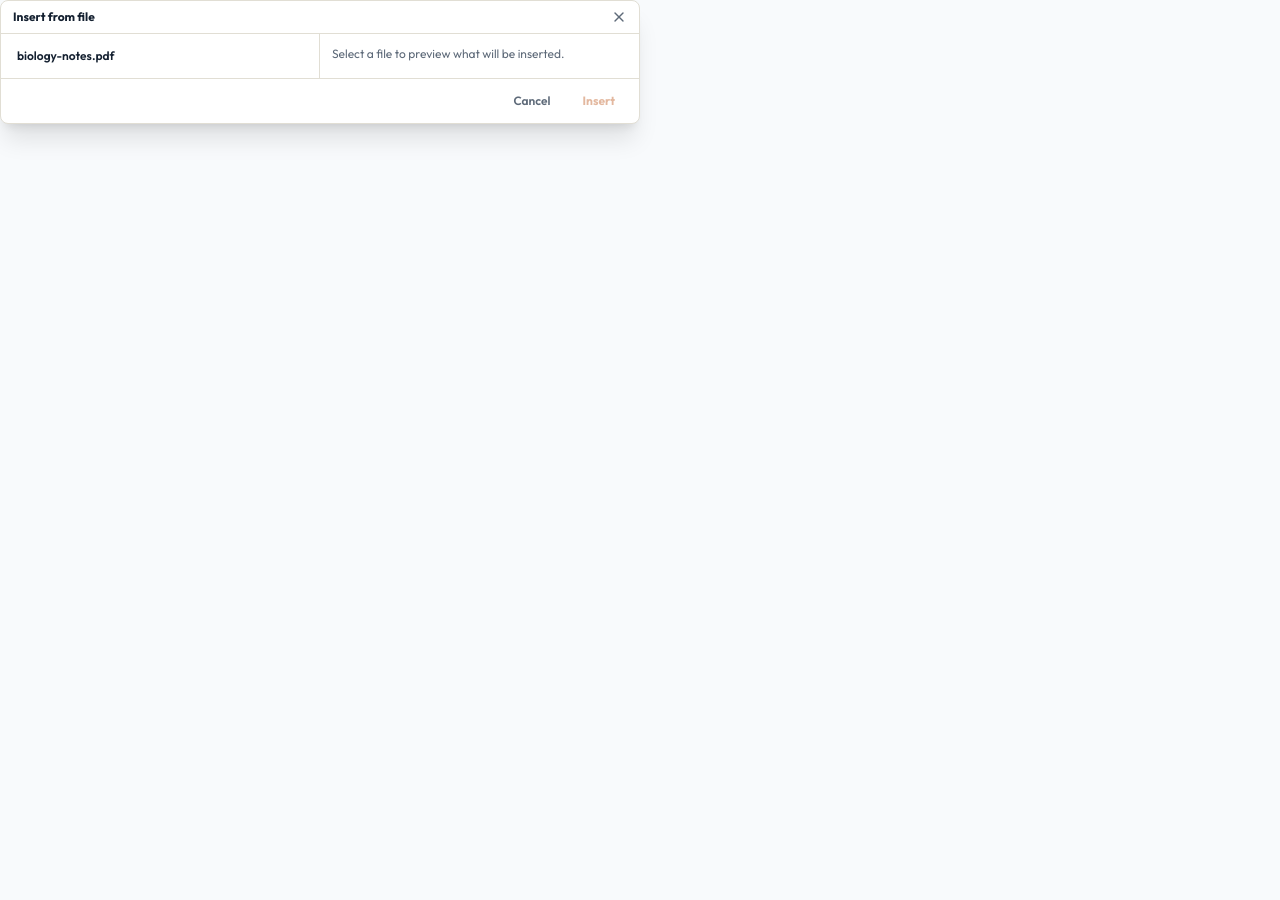
Test case: InsertFromFilePicker › selecting a section switches off "Whole file" and updates the preview to only that section
The width and height of the screenshot is (1280, 900).
Click the option "biology-notes.pdf": (66, 56) 9,42 -> 311,70
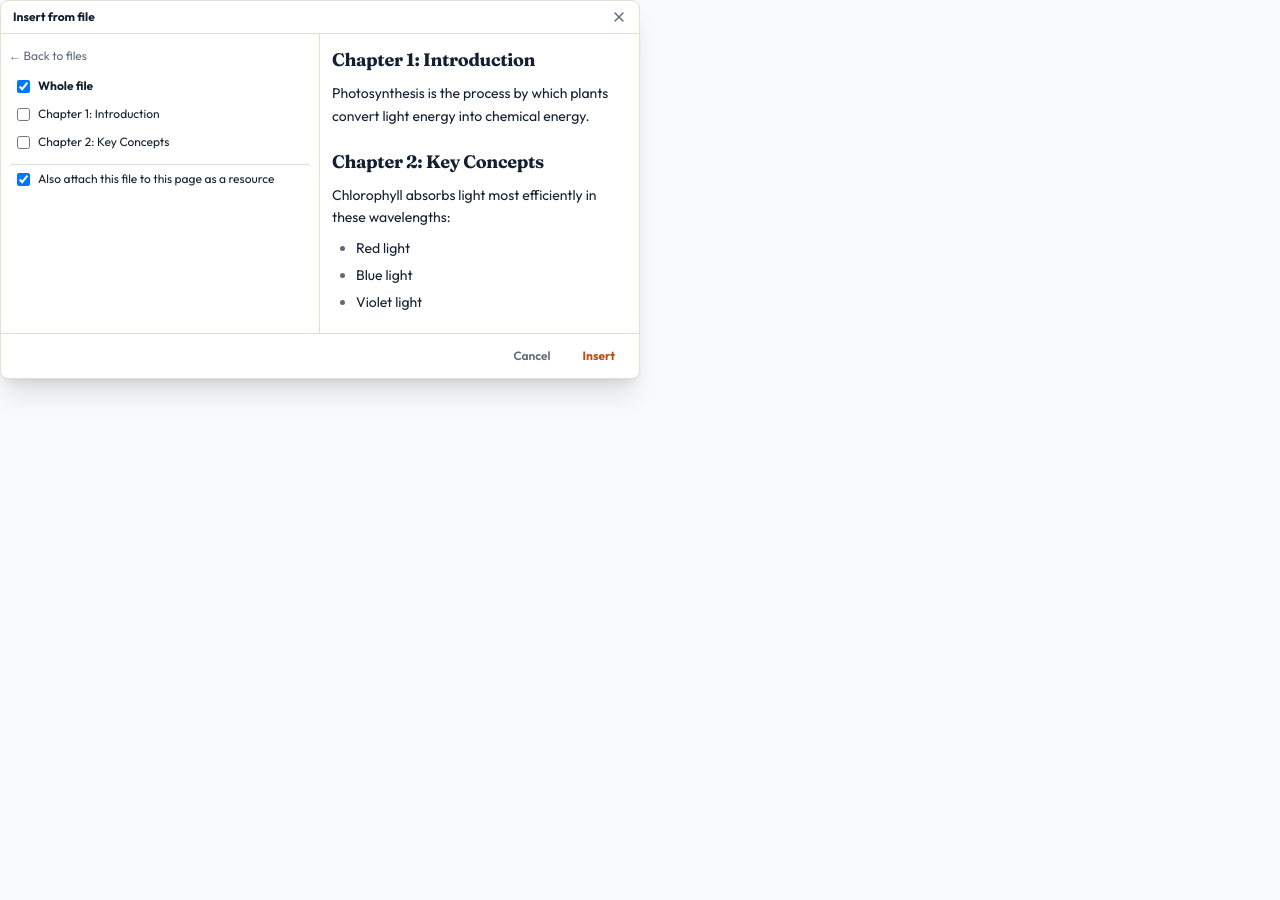
Click the checkbox labelled "Chapter 2: Key Concepts": (24, 142) 17,136 -> 30,148
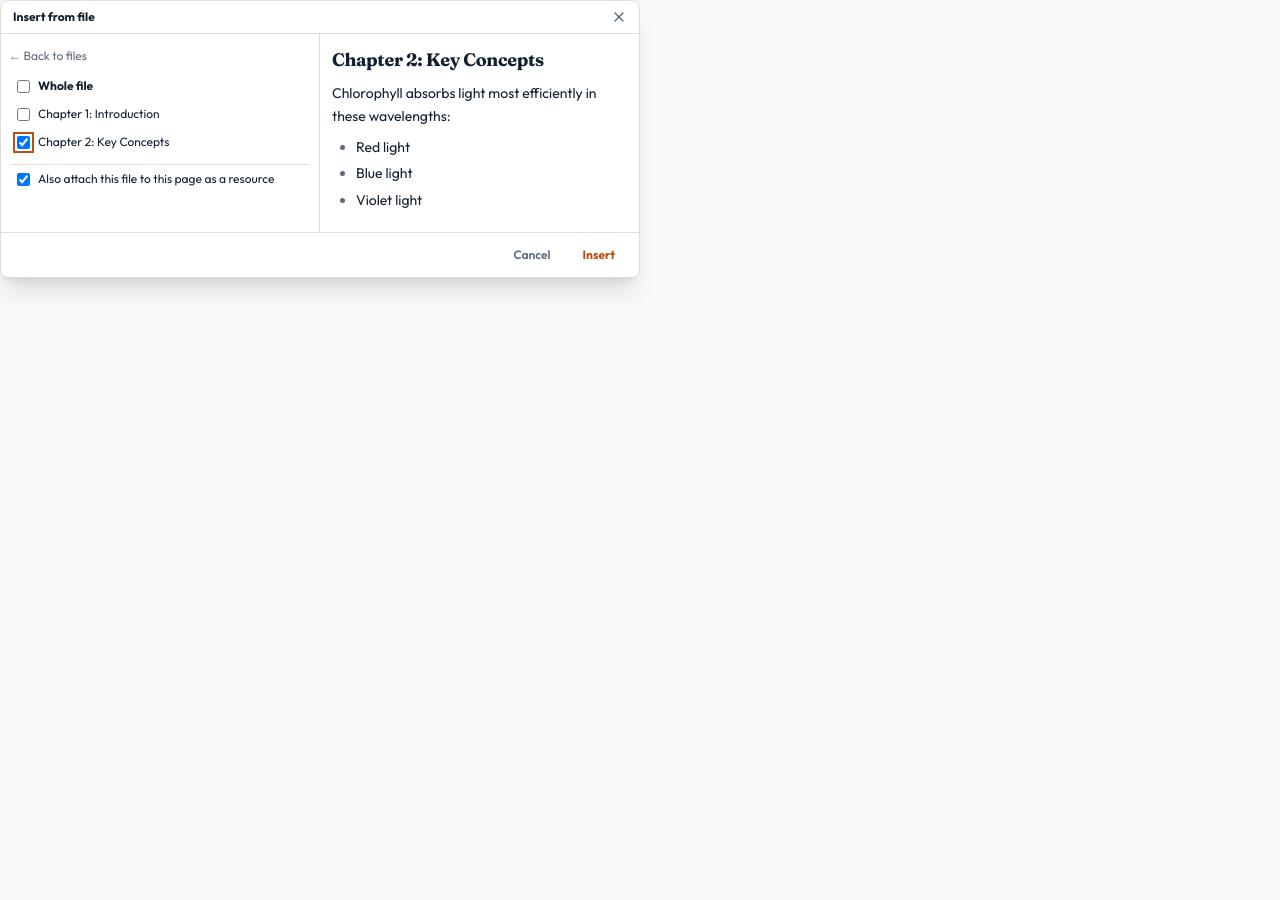
Expected: the text "Red light" is shown, 356,138 -> 410,156
Expected: the checkbox labelled "Whole file" is not checked, 17,80 -> 30,92
Expected: the text "Photosynthesis is the process" is gone
